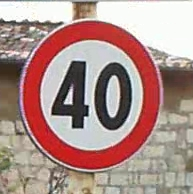limite 40: (18, 18, 165, 173)
